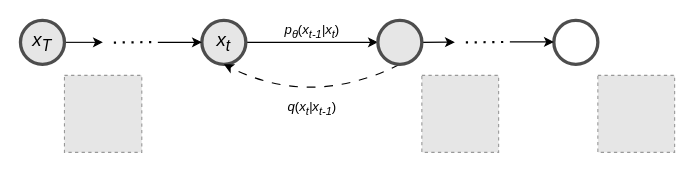
Image size: 694x172. Some labels were removed from this diagram. Grey dashed boxes stand in for pictures. Each missing label, with the box of its shape:
x 0: (552, 18, 599, 65)
x t-1: (376, 18, 423, 65)
